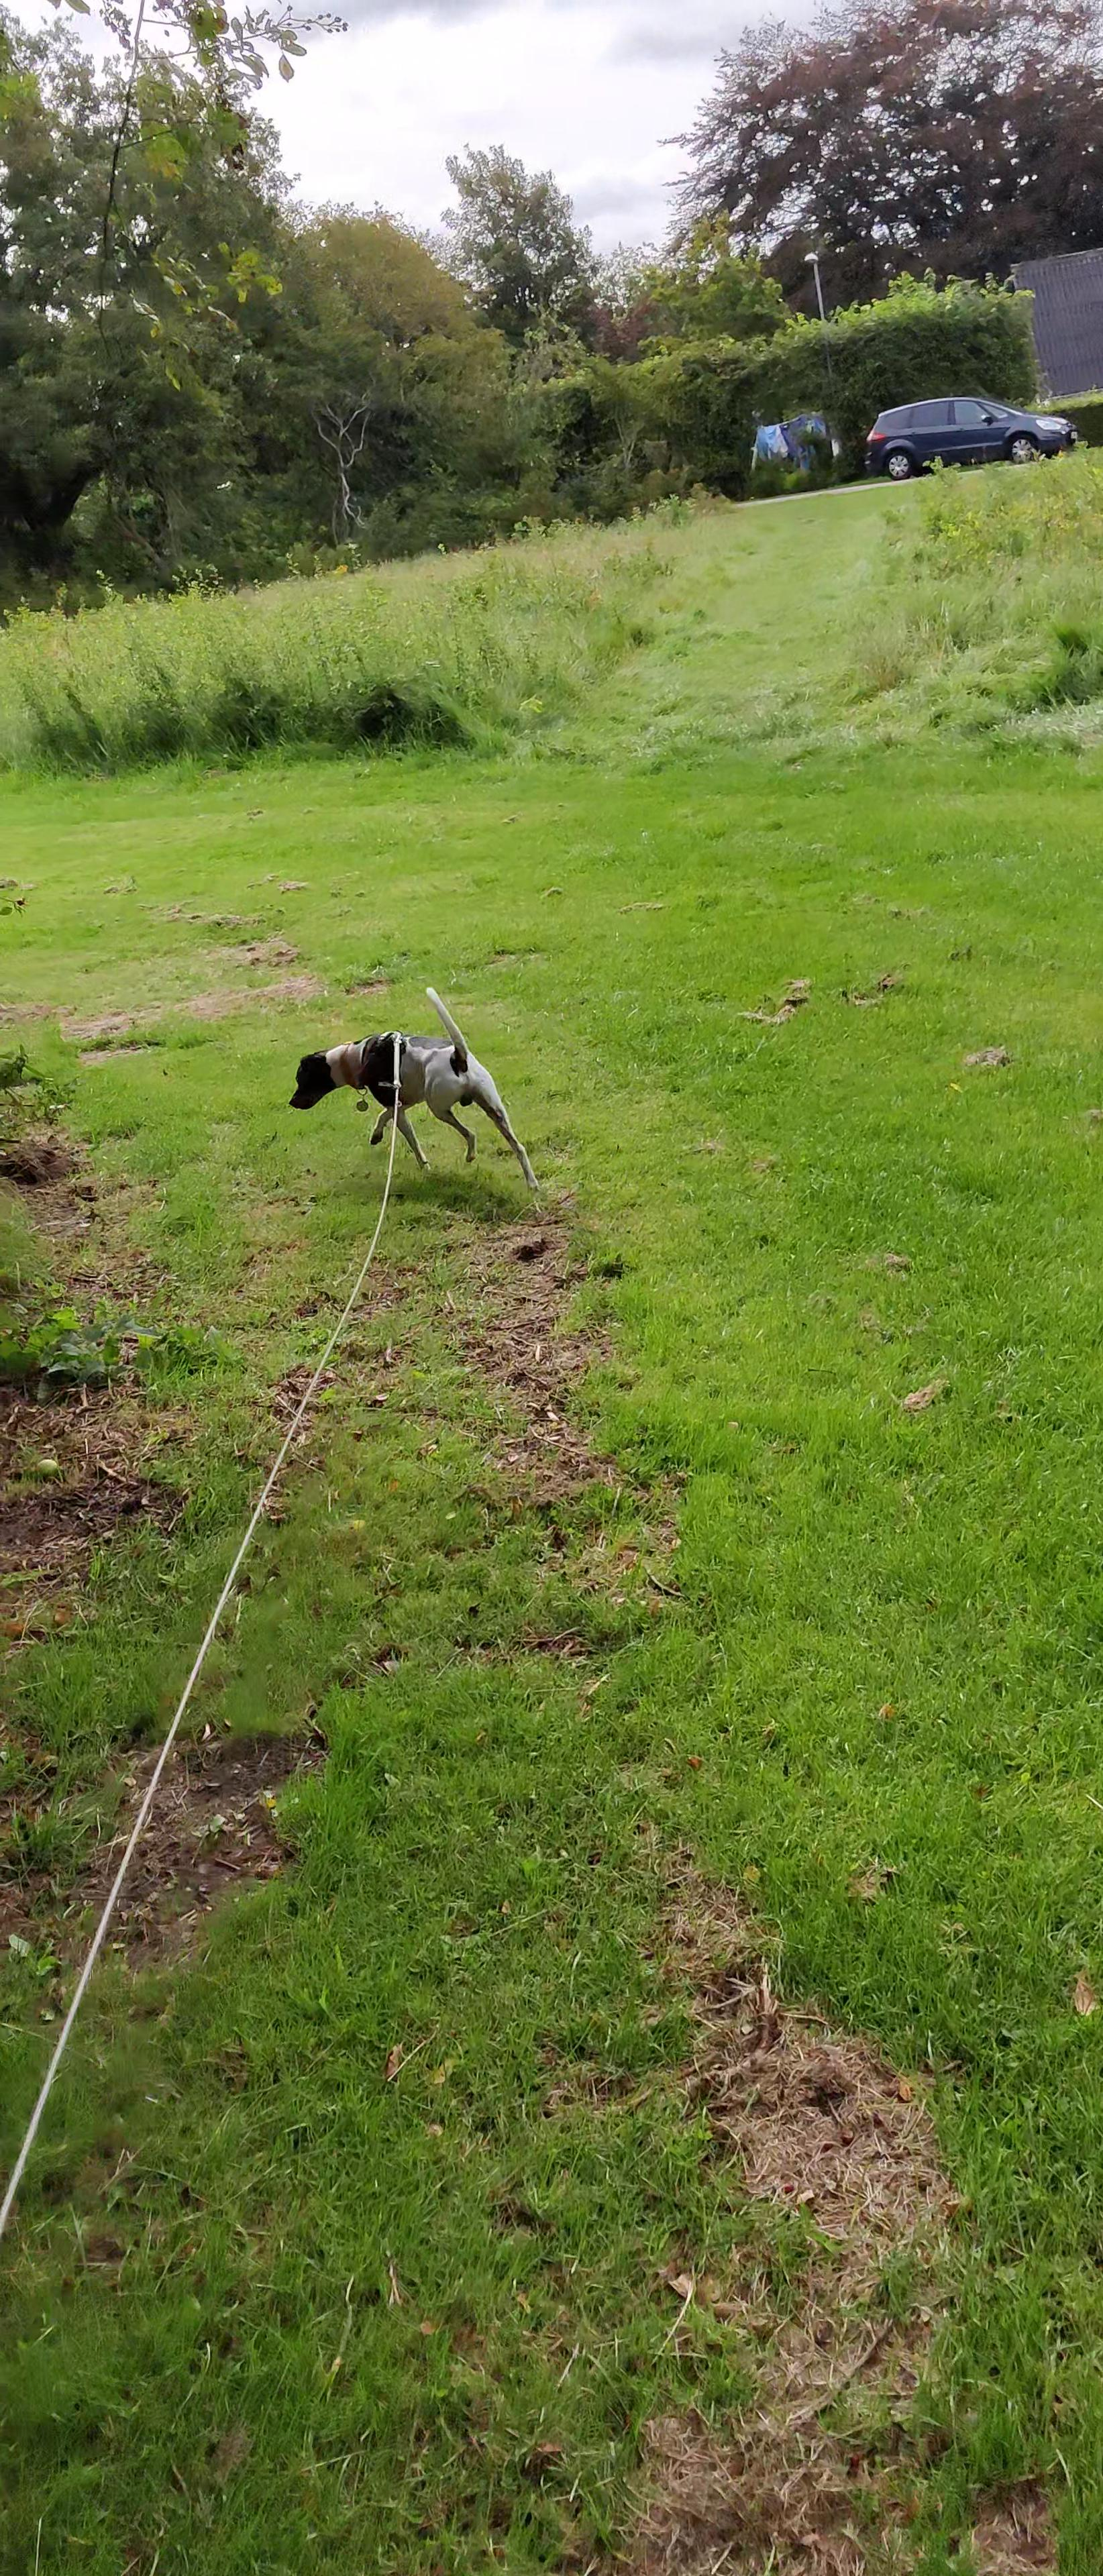Dog: (284, 977, 544, 1194)
